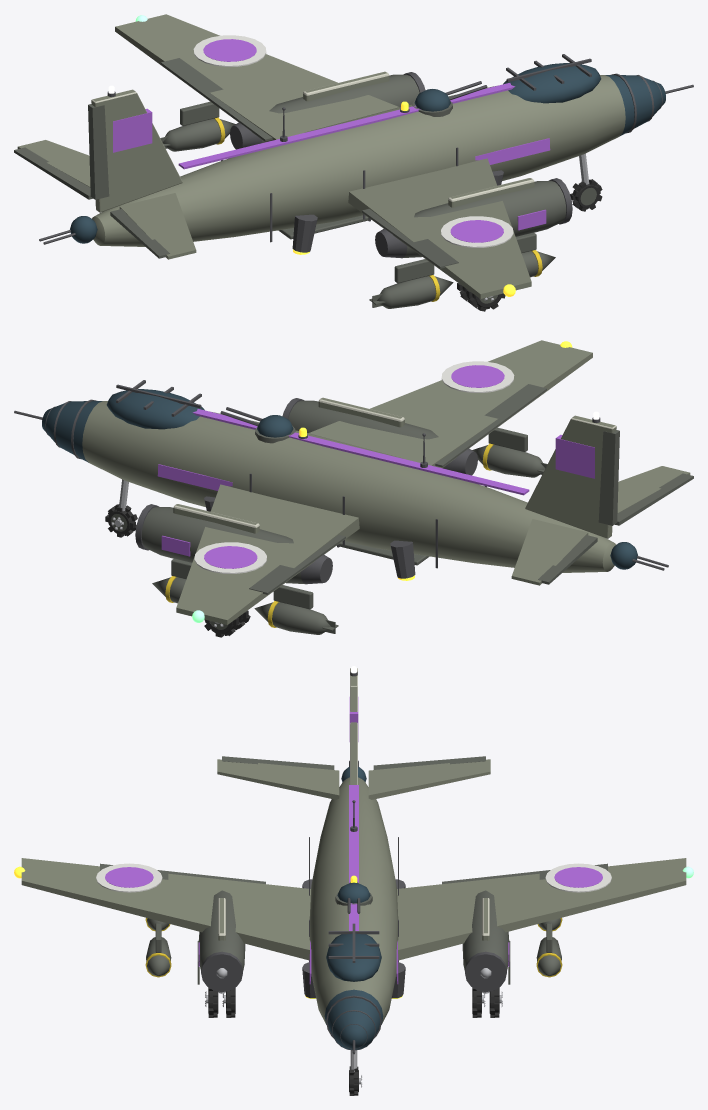
File: bomber_purple.glb
3 renders of one model, top to bottom at view 1: azimuth 30°, elevation 25°; view 2: azimuth 150°, elevation 25°; view 3: azimuth 270°, elevation 25°, orthographic. The views are drawn at different scales.
Visible parts, largest first — view 1: Body, LandingGearN, LandingGearR; view 2: Body, LandingGearN, LandingGearL; view 3: Body, LandingGearL, LandingGearR.
Part boxes in pixels (left/top/right/bottom): Body: left=14, top=14, right=693, bottom=308; LandingGearN: left=570, top=153, right=602, bottom=211; LandingGearR: left=457, top=283, right=505, bottom=311; Body: left=14, top=340, right=693, bottom=634; LandingGearN: left=105, top=479, right=137, bottom=537; LandingGearL: left=204, top=610, right=250, bottom=637; Body: left=14, top=666, right=693, bottom=1054; LandingGearL: left=472, top=987, right=502, bottom=1017; LandingGearR: left=205, top=987, right=235, bottom=1017.
Size of the model in its own units: 7 by 2.46 by 6.96.
1 material, 1 textured.
